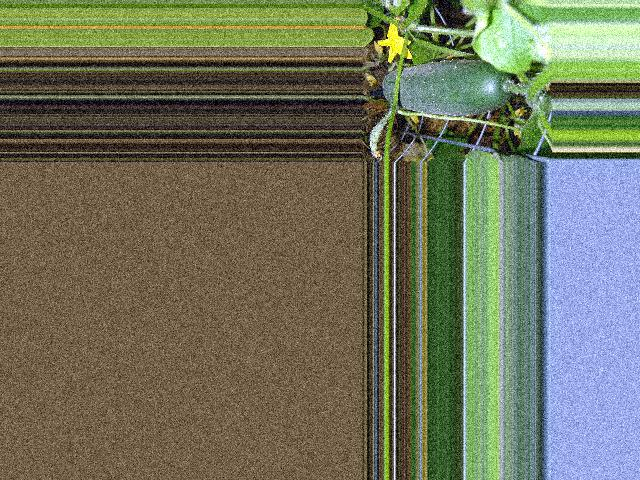cucumber: (383, 60, 512, 117)
